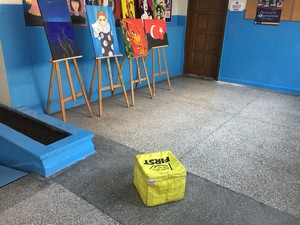cube: (132, 151, 190, 204)
